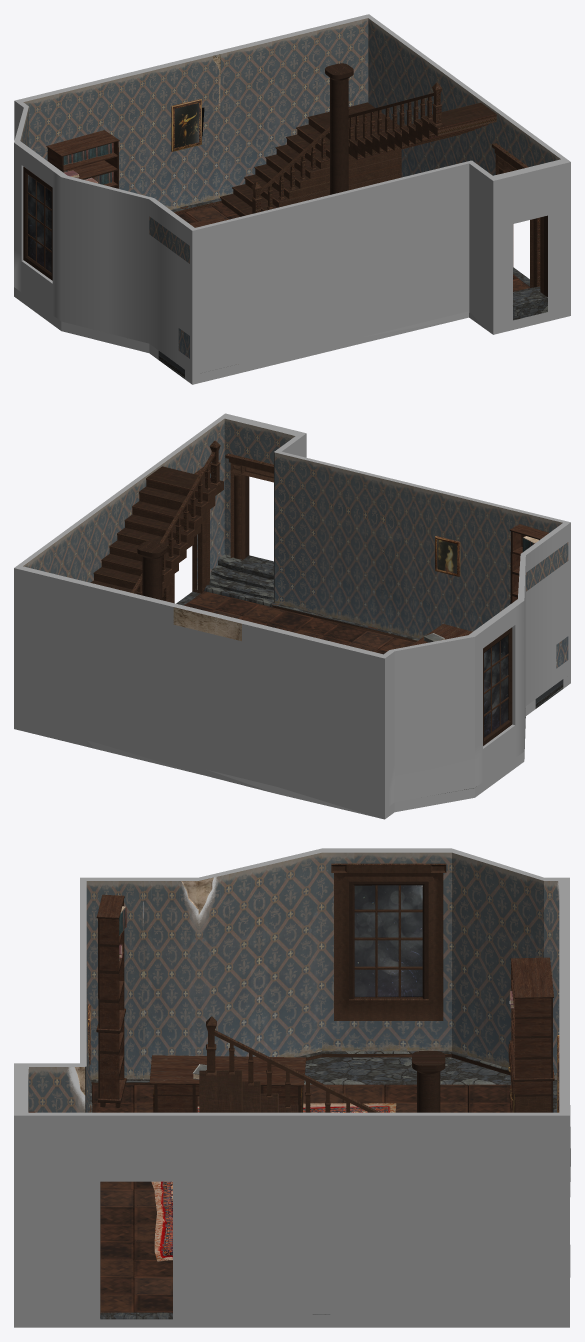
Rendered from Office.fbx.
3 renders of one model, top to bottom at view 1: azimuth 30°, elevation 25°; view 2: azimuth 150°, elevation 25°; view 3: azimuth 270°, elevation 25°, orthographic. The views are drawn at different scales.
Parts seen in each view (by area): view 1: walls, stairs, floor, wood_column, desk_blade1, pPlane1, woman_with_torch, close_door_frame, pCube10, parquete_right; view 2: walls, stairs, floor, parquete_right, open_door_frame, small_stony_stairs, pPlane1, wood_column, close_door_frame, thin_bookcase, woman_with_skeleton_painting1, pCube10 (+1 smaller); view 3: walls, floor, window_frame, parquete_right, pPlane1, desk_blade1, parquete_left, thin_bookcase, marble_plate_under_window, desk_blade, stairs, carpet (+4 smaller).
Boxes of the visible parts, box(x1,y1,x2,y2) form: walls: box(14, 14, 570, 374); stairs: box(220, 102, 496, 216); floor: box(14, 198, 570, 384); wood_column: box(325, 63, 353, 194); desk_blade1: box(46, 130, 119, 188); pPlane1: box(28, 175, 51, 272); woman_with_torch: box(171, 98, 201, 151); close_door_frame: box(492, 143, 540, 287); pCube10: box(23, 166, 52, 280); parquete_right: box(185, 203, 529, 291); walls: box(14, 413, 570, 809); stairs: box(90, 466, 223, 597); floor: box(14, 588, 570, 819); parquete_right: box(184, 591, 394, 651); open_door_frame: box(225, 453, 273, 560); small_stony_stairs: box(209, 554, 273, 599); pPlane1: box(484, 635, 508, 737); wood_column: box(137, 541, 167, 600); close_door_frame: box(162, 465, 210, 603); thin_bookcase: box(509, 524, 548, 603); woman_with_skeleton_painting1: box(435, 536, 460, 576); pCube10: box(483, 627, 512, 745); walls: box(14, 848, 569, 1314); floor: box(14, 1051, 570, 1327); window_frame: box(331, 863, 446, 1020); parquete_right: box(100, 1189, 172, 1312); pPlane1: box(354, 885, 422, 996); desk_blade1: box(509, 957, 554, 1112); parquete_left: box(92, 1084, 511, 1189); thin_bookcase: box(96, 894, 126, 1107); marble_plate_under_window: box(304, 1057, 511, 1085); desk_blade: box(149, 1055, 306, 1086); stairs: box(199, 1070, 298, 1112); carpet: box(151, 1103, 396, 1261).
Bounding box in the file's own units: 68.68 × 32.32 × 60.5.
